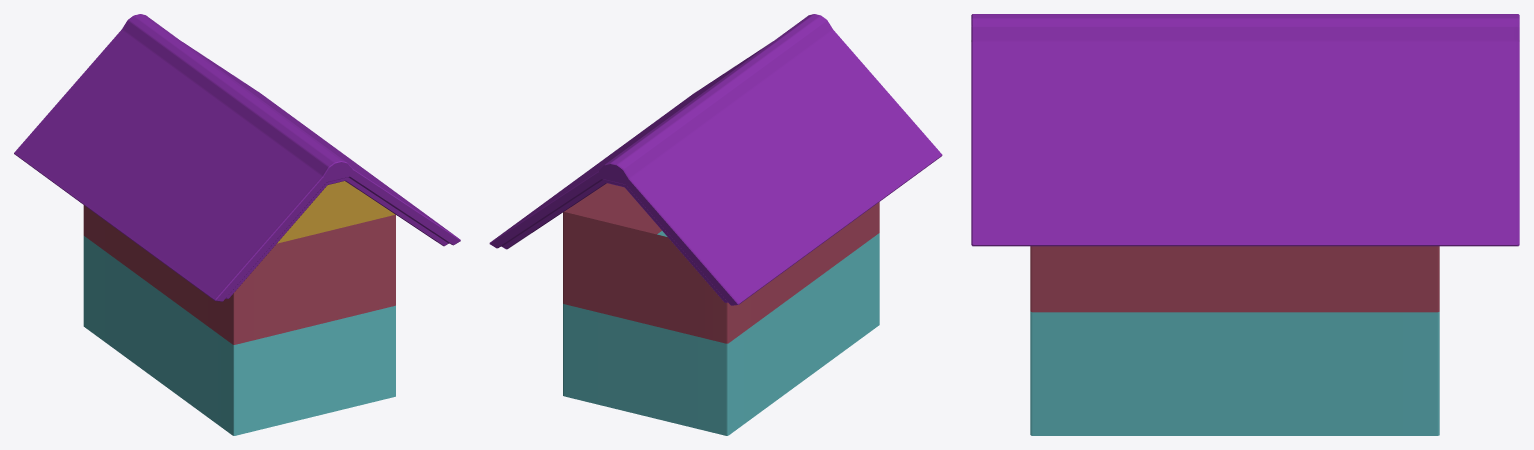
The model's file is model_House3_high.fbx.
The picture shows the model from 3 angles, left to right: view 1: azimuth 30°, elevation 25°; view 2: azimuth 150°, elevation 25°; view 3: azimuth 270°, elevation 25°; orthographic projection. The views are drawn at different scales.
Visible parts, largest first — view 1: pasted__roof_top1, pasted__house_wall2, pasted__house_wall3, pasted__roof_face1; view 2: pasted__roof_top1, pasted__house_wall2, pasted__house_wall3; view 3: pasted__roof_top1, pasted__house_wall2, pasted__house_wall3.
Boxes of the visible parts, bbox=[...] form: pasted__roof_top1: bbox=[14, 14, 460, 301]; pasted__house_wall2: bbox=[83, 236, 395, 435]; pasted__house_wall3: bbox=[83, 205, 395, 344]; pasted__roof_face1: bbox=[277, 181, 394, 243]; pasted__roof_top1: bbox=[489, 14, 942, 305]; pasted__house_wall2: bbox=[563, 231, 879, 435]; pasted__house_wall3: bbox=[563, 183, 879, 343]; pasted__roof_top1: bbox=[971, 14, 1519, 246]; pasted__house_wall2: bbox=[1030, 311, 1439, 435]; pasted__house_wall3: bbox=[1030, 246, 1439, 312].
Size of the model in its own units: 566 by 593 by 803.
